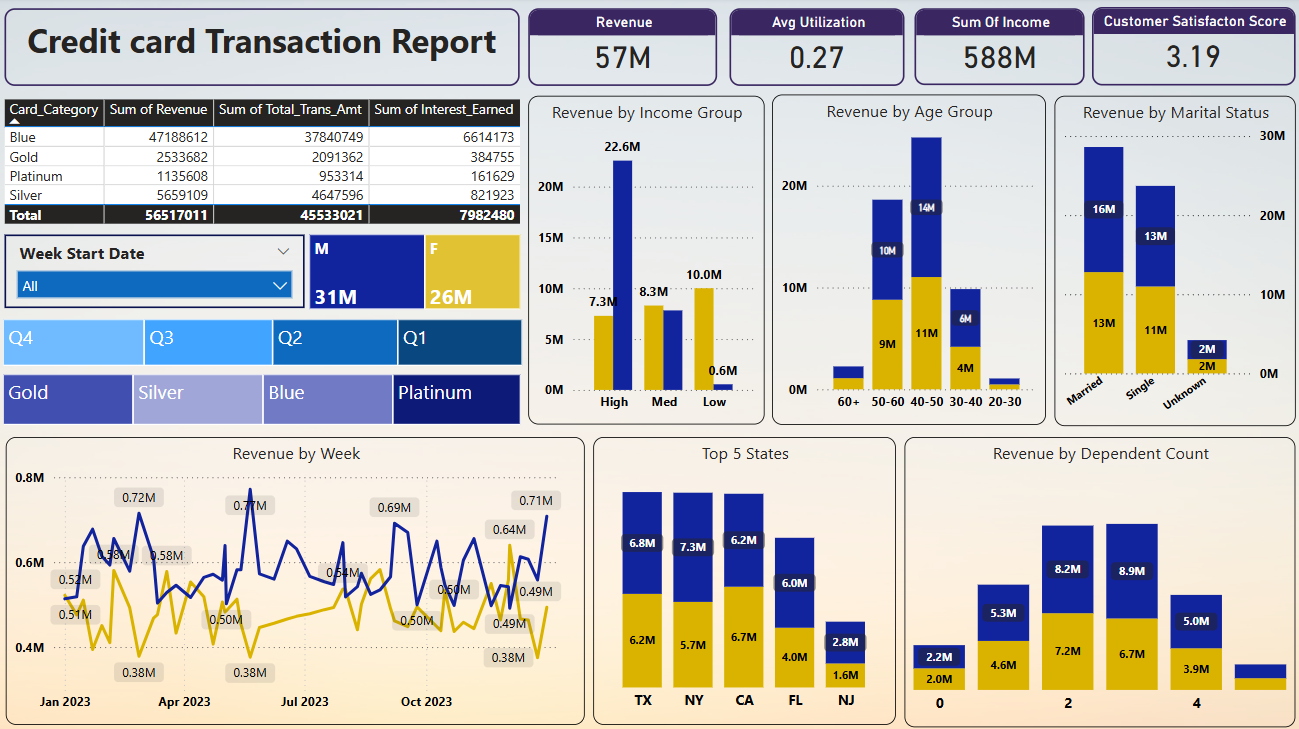

Layout of this report page (visuals, bound fields, positions):
{"tool":"powerbi","page":{"name":"Credit Card Transaction Report","canvas":[1280,720],"ordinal":1},"visuals":[{"type":"textbox","box":[7.3,11,503.8,75.8],"z":0},{"type":"tableEx","fields":{"Values":["Credit_card_detail.Card_Category","Sum(Credit_card_detail.Revenue)","Sum(Credit_card_detail.Total_Trans_Amt)","Sum(Credit_card_detail.Interest_Earned)"]},"box":[1.2,95.4,517.3,141.8],"z":1000},{"type":"card","title":"Revenue","fields":{"Values":["Sum(Credit_card_detail.Revenue)"]},"box":[519.7,11,184.6,75.8],"z":2000},{"type":"slicer","fields":{"Values":["Credit_card_detail.Week_Start_Date"]},"box":[7.3,229.9,270.2,72.1],"z":3000},{"type":"card","title":"Interest Earned","fields":{"Values":["Sum(Credit_card_detail.Interest_Earned)"]},"box":[716.6,11,171.2,75.8],"z":4000},{"type":"card","title":"Sum Of Income","fields":{"Values":["Sum(Customer_detail.Income)"]},"box":[897.4,11,166,75.5],"z":5000},{"type":"card","title":"Customer Satisfacton Score","fields":{"Values":["Avg(Customer_detail.Cust_Satisfaction_Score)"]},"box":[1071.7,9.6,199,76.8],"z":6000},{"type":"treemap","fields":{"Group":["Credit_card_detail.Qtr"],"Values":["Avg(Credit_card_detail.Client_Num)"]},"box":[1.2,306.9,517.3,61.1],"z":7000},{"type":"treemap","fields":{"Values":["Avg(Credit_card_detail.Client_Num)"],"Group":["Credit_card_detail.Card_Category"]},"box":[2.7,369.1,516,61.7],"z":8000},{"type":"lineChart","title":"Revenue by Week","fields":{"Series":["Customer_detail.Gender"],"Y":["Sum(Credit_card_detail.Revenue)"],"Category":["Credit_card_detail.Week_Start_Date.Variation.Date Hierarchy.Year","Credit_card_detail.Week_Start_Date.Variation.Date Hierarchy.Month","Credit_card_detail.Week_Start_Date.Variation.Date Hierarchy.Day"]},"box":[8.2,430.9,566.7,281.3],"z":9000},{"type":"treemap","fields":{"Group":["Customer_detail.Gender"],"Values":["Sum(Credit_card_detail.Revenue)"]},"box":[277.6,223.8,240.9,83.2],"z":10000},{"type":"clusteredColumnChart","title":" Revenue by Income Group","fields":{"Category":["Customer_detail.Income Group"],"Y":["Sum(Credit_card_detail.Revenue)"],"Series":["Customer_detail.Gender"]},"box":[521.4,96.1,208.6,323.8],"z":11000},{"type":"columnChart","title":" Revenue by Age Group","fields":{"Y":["Sum(Credit_card_detail.Revenue)"],"Category":["Customer_detail.Age Group"],"Series":["Customer_detail.Gender"]},"box":[739.6,96.1,271.7,323.8],"z":12000},{"type":"columnChart","title":"Top 5 States","fields":{"Category":["Customer_detail.state_cd"],"Y":["Sum(Credit_card_detail.Revenue)"],"Series":["Customer_detail.Gender"]},"box":[583.2,430.9,296.4,281.3],"z":13000},{"type":"columnChart","title":" Revenue by Dependent Count","fields":{"Category":["Customer_detail.Dependent_Count"],"Y":["Sum(Credit_card_detail.Revenue)"],"Series":["Customer_detail.Gender"]},"box":[887.8,430.9,382.8,282.7],"z":14000},{"type":"columnChart","title":" Revenue by Marital Status","fields":{"Y":["Sum(Credit_card_detail.Revenue)"],"Category":["Customer_detail.Marital_Status"],"Series":["Customer_detail.Gender"]},"box":[1020.9,96.1,249.7,323.8],"z":15000}]}

Visuals, with their boxes in screenshot pixels (x1, y1, x2, y2), scaled from the page's 1280x720 canvas onto the 1299x729 screenshot:
textbox: (7,11,519,88)
tableEx - Credit_card_detail.Card_Category x Sum(Credit_card_detail.Revenue): (1,97,526,240)
"Revenue" card: (527,11,715,88)
slicer - Credit_card_detail.Week_Start_Date: (7,233,282,306)
"Interest Earned" card: (727,11,901,88)
"Sum Of Income" card: (911,11,1079,88)
"Customer Satisfacton Score" card: (1088,10,1290,87)
treemap - Credit_card_detail.Qtr x Avg(Credit_card_detail.Client_Num): (1,311,526,373)
treemap - Avg(Credit_card_detail.Client_Num) x Credit_card_detail.Card_Category: (3,374,526,436)
"Revenue by Week" lineChart: (8,436,583,721)
treemap - Customer_detail.Gender x Sum(Credit_card_detail.Revenue): (282,227,526,311)
" Revenue by Income Group" clusteredColumnChart: (529,97,741,425)
" Revenue by Age Group" columnChart: (751,97,1026,425)
"Top 5 States" columnChart: (592,436,893,721)
" Revenue by Dependent Count" columnChart: (901,436,1289,723)
" Revenue by Marital Status" columnChart: (1036,97,1289,425)
